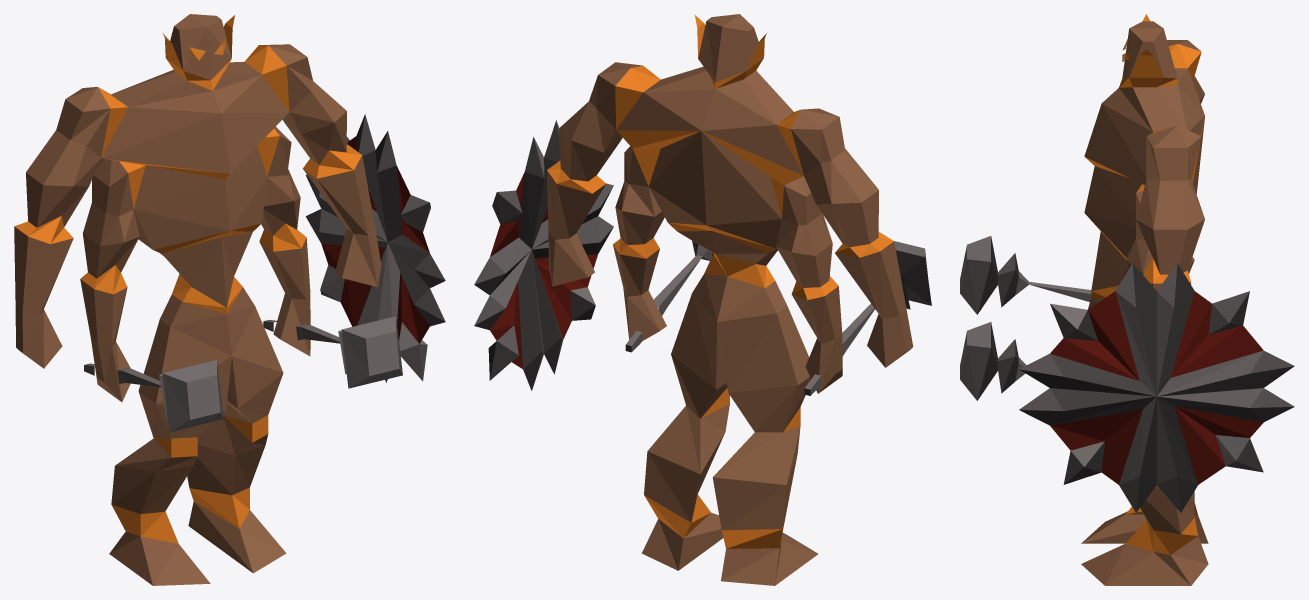
The model's file is tzhaar-ket-rak-s-challenges.gltf.
The picture shows the model from 3 angles, left to right: view 1: azimuth 30°, elevation 25°; view 2: azimuth 150°, elevation 25°; view 3: azimuth 270°, elevation 25°; orthographic projection.
Size of the model in its own units: 127 by 168 by 97.
2 materials, 2 textured.
